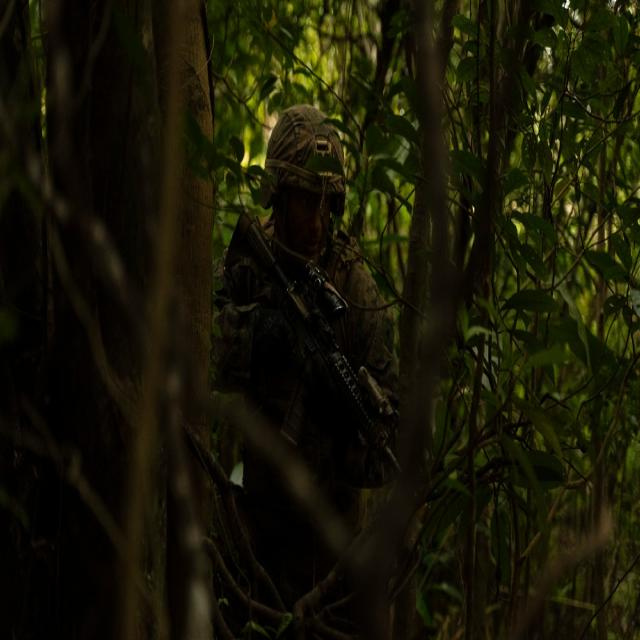Forest: (0, 0, 640, 640)
Militant: (216, 88, 418, 578)
